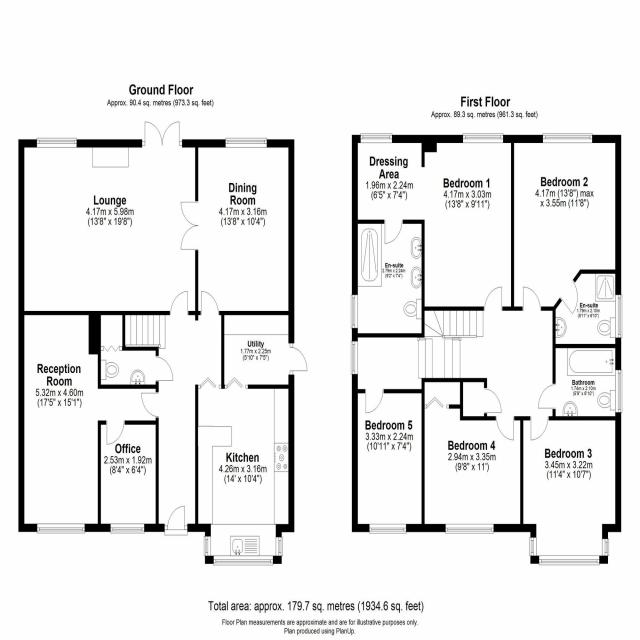DOOR: (164, 505, 188, 536), (559, 279, 578, 316), (288, 343, 308, 376), (495, 416, 515, 442), (200, 290, 220, 316), (169, 290, 189, 316), (140, 391, 159, 418), (155, 355, 174, 382), (483, 286, 503, 311), (383, 219, 403, 244), (538, 383, 556, 410), (484, 387, 502, 414), (530, 416, 549, 441), (522, 286, 541, 311), (365, 389, 384, 414), (106, 420, 125, 445)
DOUBLE DOOR: (141, 120, 183, 148), (180, 200, 199, 251)
FOLDING DOOR: (424, 396, 450, 409), (198, 377, 222, 389), (224, 377, 248, 389)
ROOM: (18, 120, 199, 316), (18, 310, 159, 534), (180, 137, 295, 316), (511, 133, 622, 315), (194, 377, 295, 566), (421, 133, 515, 311), (421, 378, 524, 534), (520, 416, 622, 566), (351, 389, 425, 534), (97, 420, 159, 534)
WINDOW: (539, 555, 600, 566), (213, 555, 273, 566), (445, 523, 494, 535), (542, 133, 593, 144), (36, 137, 77, 149), (225, 137, 267, 148), (462, 133, 503, 144), (369, 523, 407, 534), (614, 369, 623, 414), (110, 523, 145, 534), (360, 133, 393, 144), (615, 294, 623, 339), (350, 294, 358, 329), (350, 340, 358, 375), (203, 536, 211, 557), (529, 537, 537, 557), (275, 537, 283, 556), (602, 538, 609, 556)
